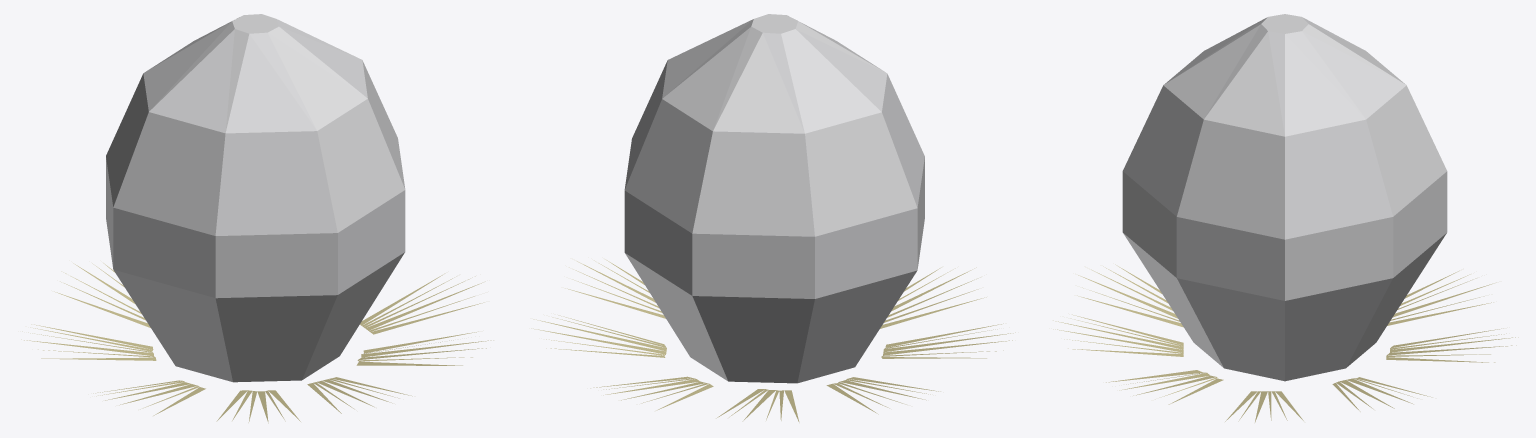
The model's file is obj_big_egg_0.obj.
3 renders of one model, left to right at view 1: azimuth 30°, elevation 25°; view 2: azimuth 150°, elevation 25°; view 3: azimuth 270°, elevation 25°, orthographic.
Size of the model in its own units: 1.1 by 0.8125 by 1.09.
